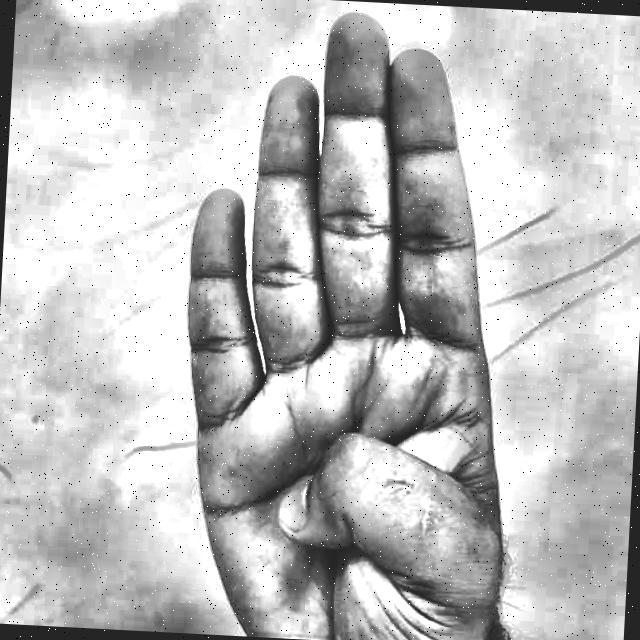Ba: (143, 0, 556, 640)
